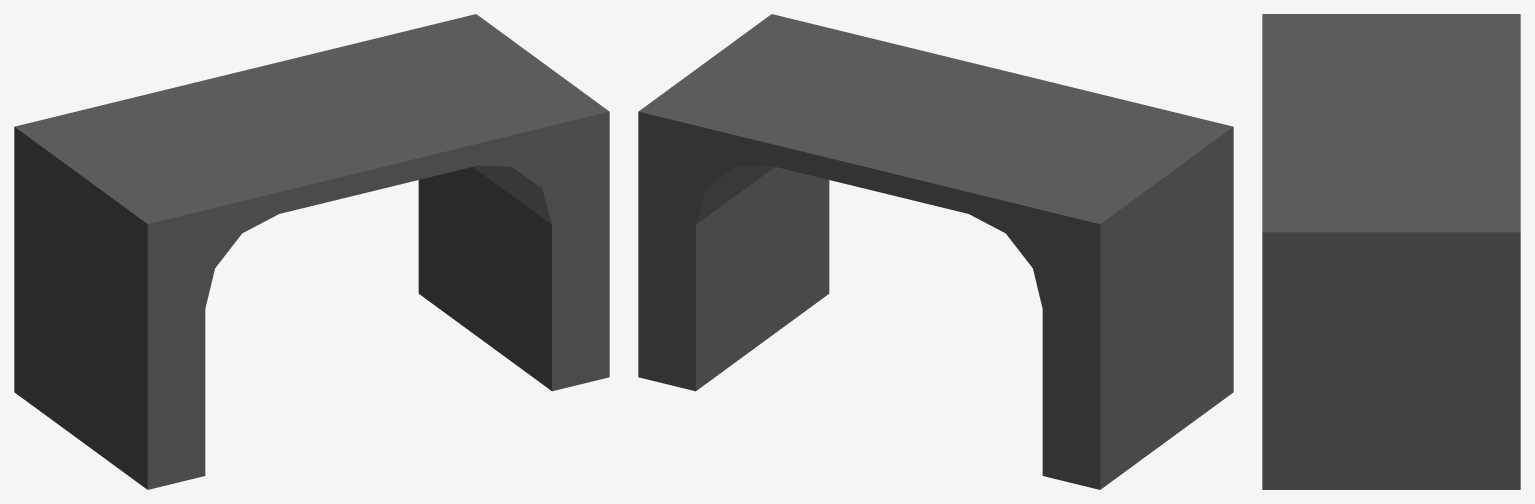
The model's file is canal.fbx.
3 views of the same model, side by side, from view 1: azimuth 30°, elevation 25°; view 2: azimuth 150°, elevation 25°; view 3: azimuth 270°, elevation 25° (orthographic). The views are drawn at different scales.
Parts seen in each view (by area): view 1: Canal; view 2: Canal; view 3: Canal.
Boxes of the visible parts, x1,y1,x2,y2 form: Canal: [14, 14, 609, 489]; Canal: [638, 14, 1233, 489]; Canal: [1262, 14, 1520, 489].
Size of the model in its own units: 4000 by 2200 by 2000.
